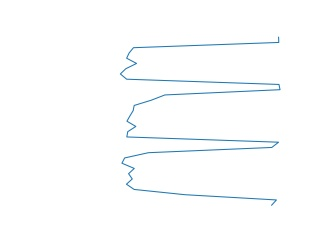majorRiverChannelBar: (117, 36, 284, 207)
